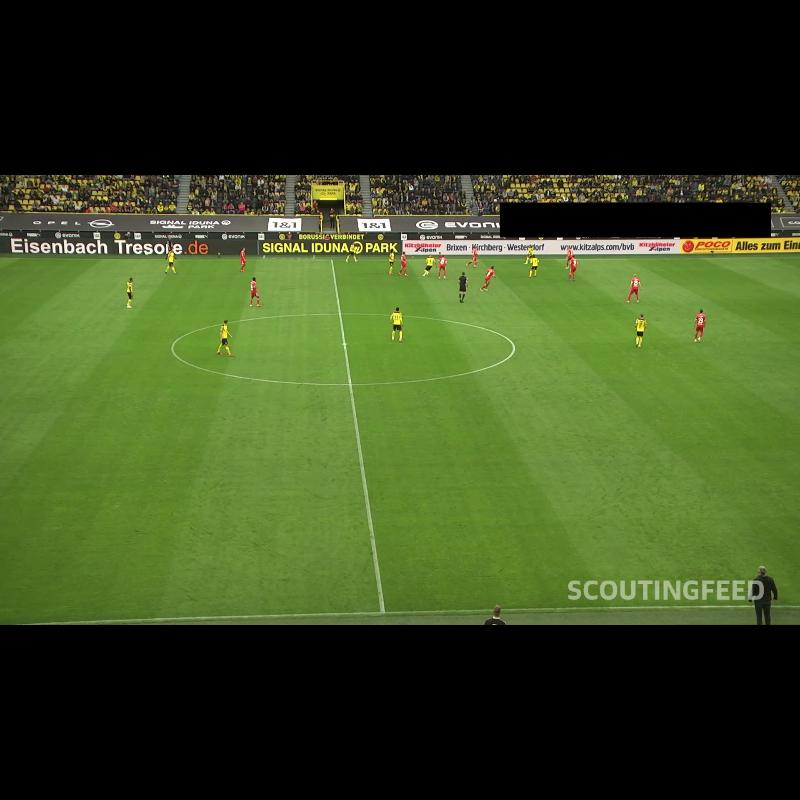crossing_player_zone: (672, 257, 800, 296)
pitch: (0, 257, 800, 625)
